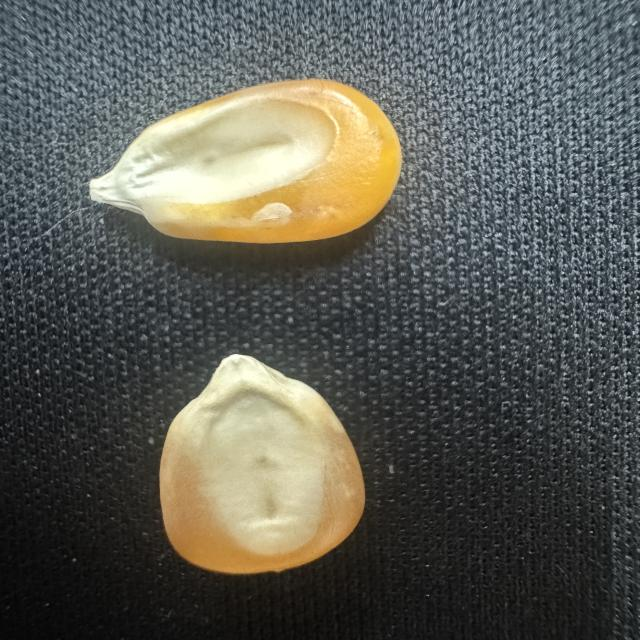Good-Seed: (72, 70, 411, 258), (147, 345, 376, 582)
